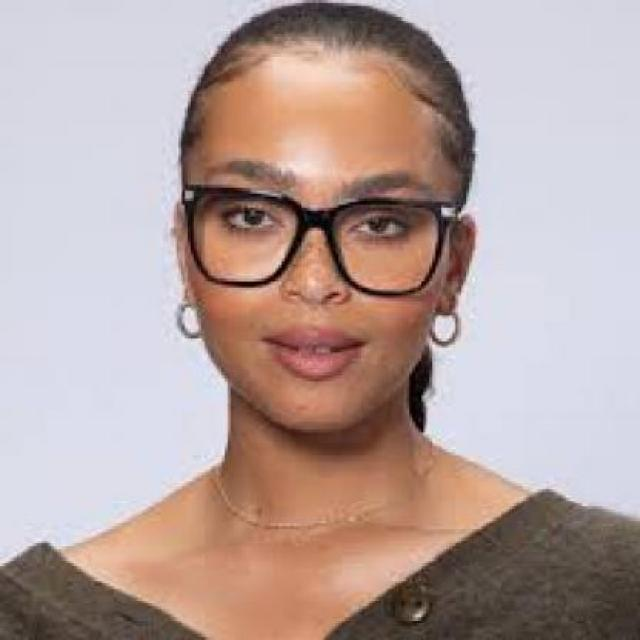glasses: (164, 184, 458, 296)
